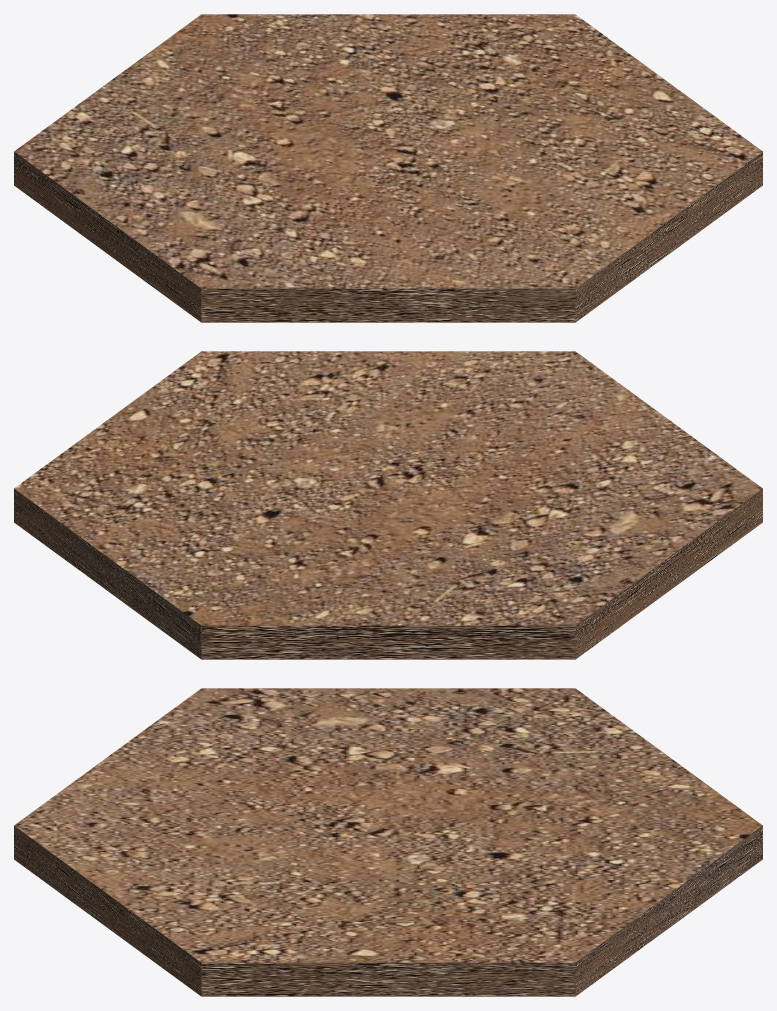
File: ExportedBlenderFBXFile.fbx
3 renders of one model, top to bottom at view 1: azimuth 30°, elevation 25°; view 2: azimuth 150°, elevation 25°; view 3: azimuth 270°, elevation 25°, orthographic.
Visible parts, largest first — view 1: Cylinder; view 2: Cylinder; view 3: Cylinder.
Boxes of the visible parts, <box> form: Cylinder: <box>14,14,762,322</box>; Cylinder: <box>14,351,762,659</box>; Cylinder: <box>14,688,762,996</box>.
Size of the model in its own units: 1.73 by 0.1 by 2.
